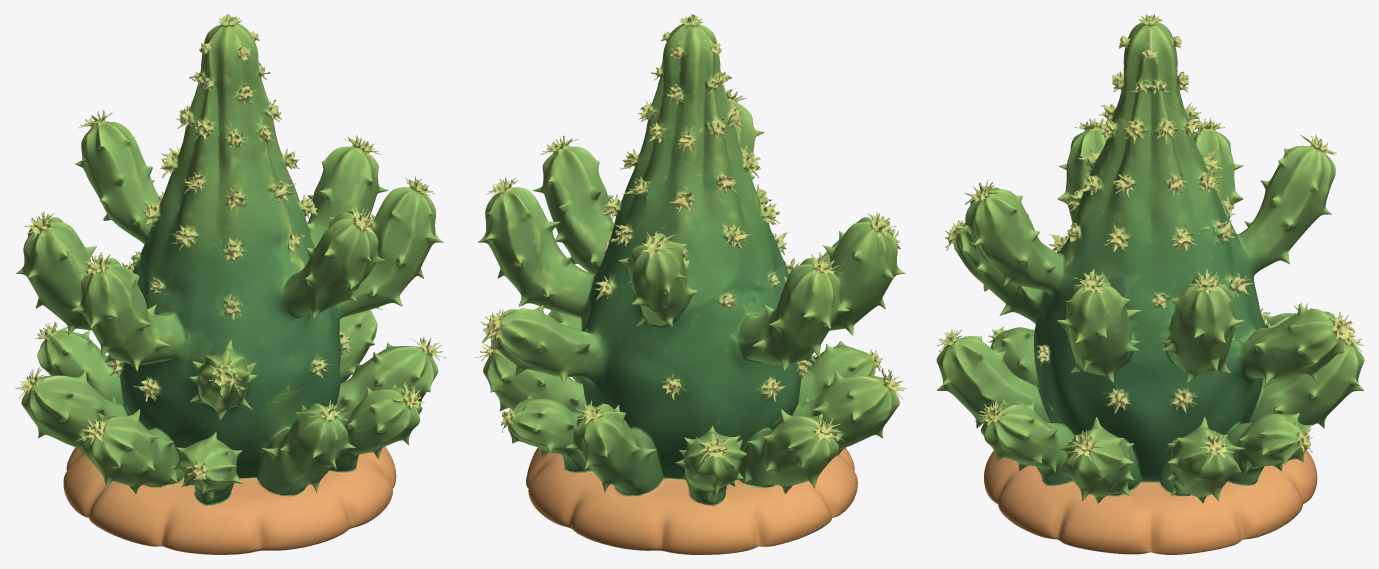
File: caatinga_xiquexique.glb
3 renders of one model, left to right at view 1: azimuth 30°, elevation 25°; view 2: azimuth 150°, elevation 25°; view 3: azimuth 270°, elevation 25°, orthographic.
Bounding box in the file's own units: 1.54 × 1.89 × 1.56.
1 material, 1 textured.
